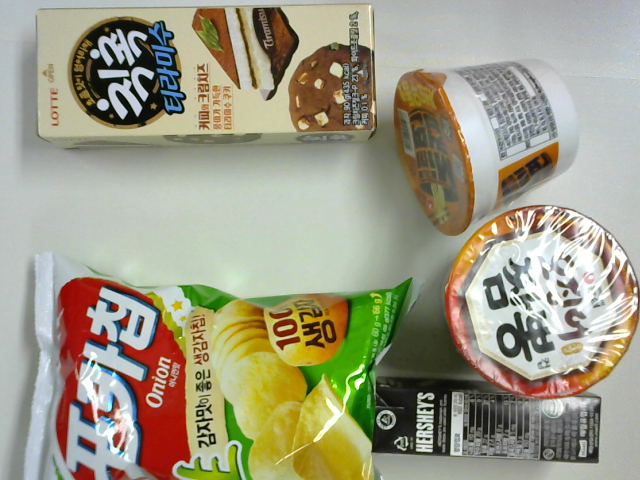Chicchok_Tiramisu: (24, 1, 372, 144)
Hush_Choco_Drink: (363, 370, 608, 468)
Ojjam: (441, 220, 617, 389)
Pocachip_Onion: (22, 271, 411, 480)
Udongmini: (386, 55, 578, 223)
